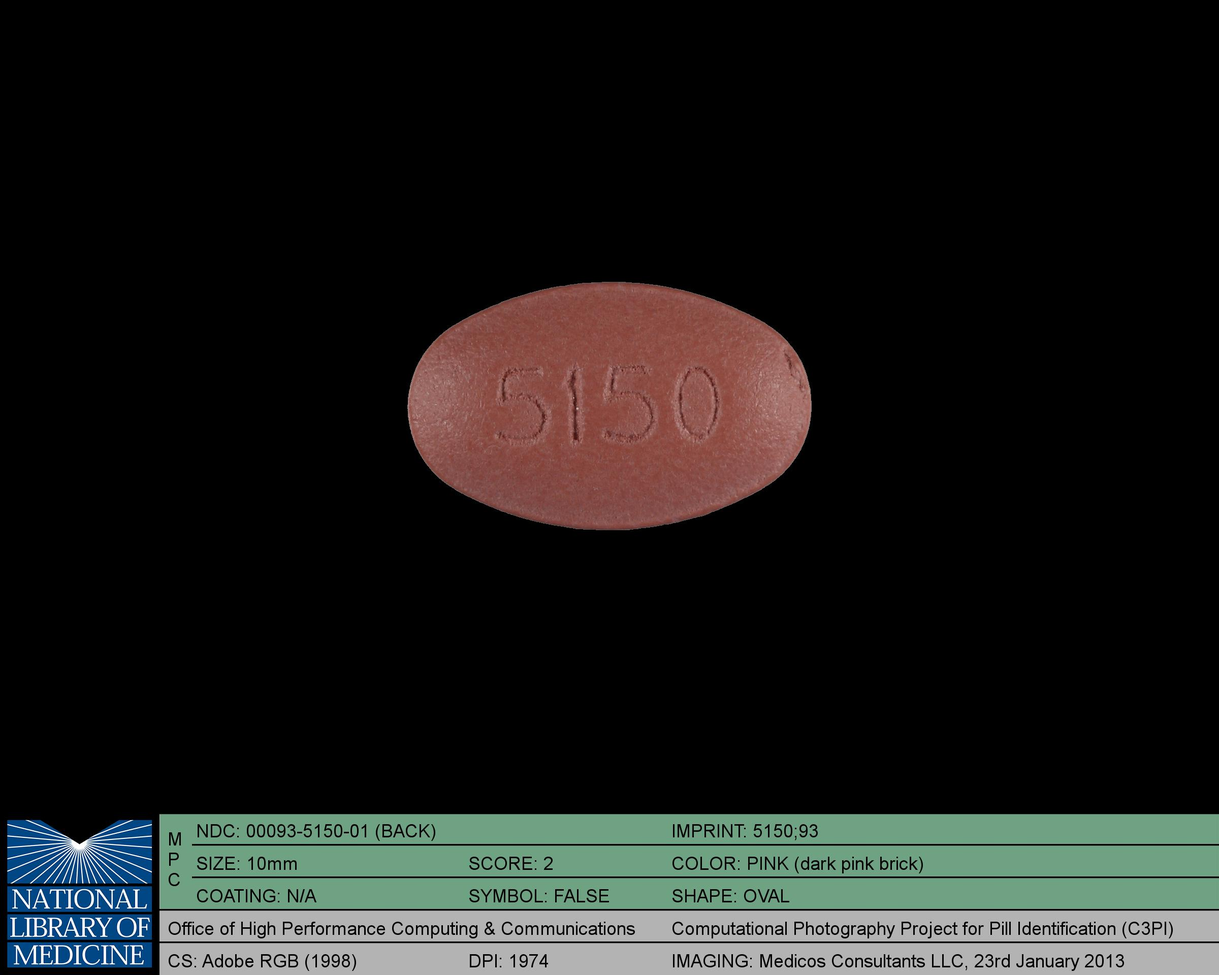Pill: (393, 264, 826, 543)
